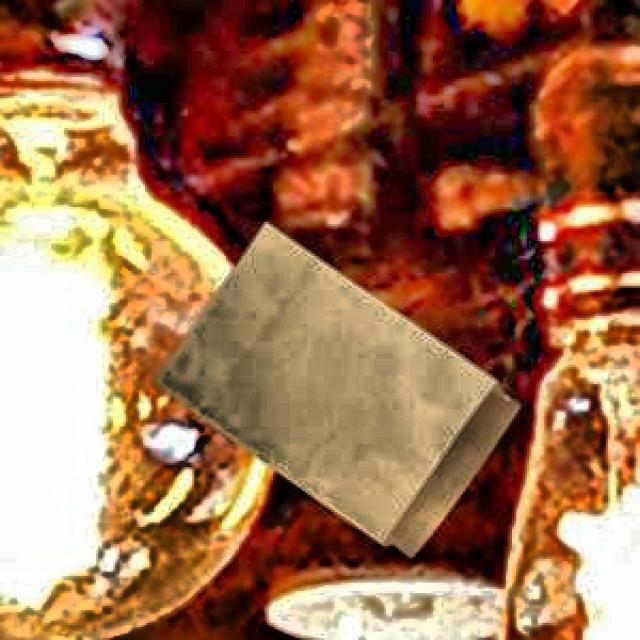Paper-bag: (125, 214, 534, 580)
